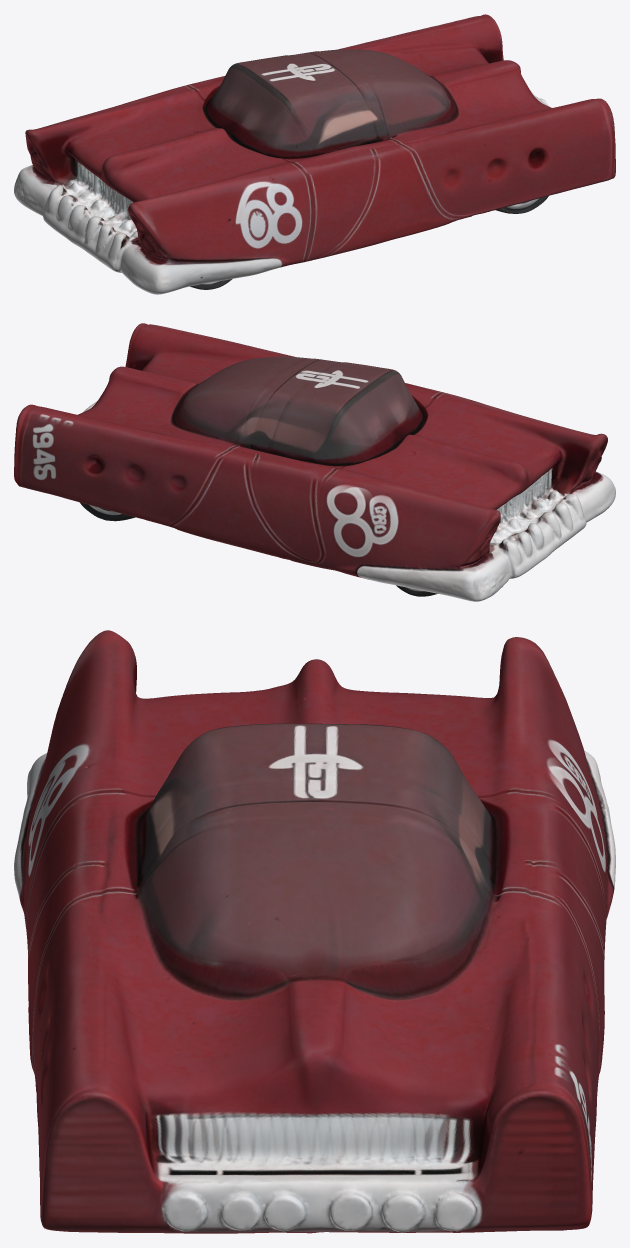
The model's file is Meshy_AI_Crimson_Chrome_Hot_Ro_0705204107_texture.glb.
The picture shows the model from 3 angles, top to bottom: view 1: azimuth 30°, elevation 25°; view 2: azimuth 150°, elevation 25°; view 3: azimuth 270°, elevation 25°; orthographic projection. The views are drawn at different scales.
Size of the model in its own units: 2 by 0.5781 by 1.1.
1 material, 1 textured.
